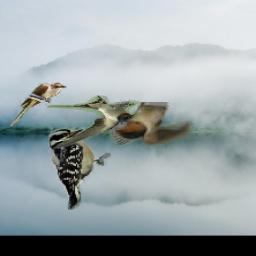Cuckoo: (9, 83, 66, 127)
Swallow: (46, 96, 140, 149), (114, 103, 191, 147)
Woodpecker: (48, 126, 111, 210)
